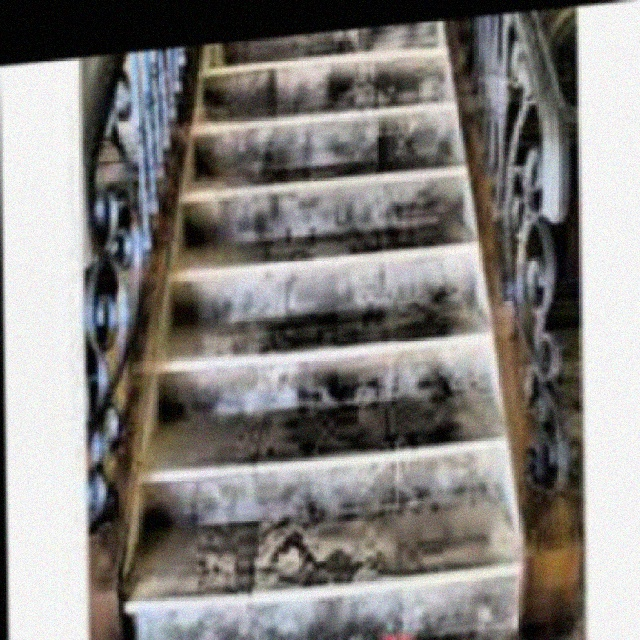stair: (89, 23, 508, 639)
